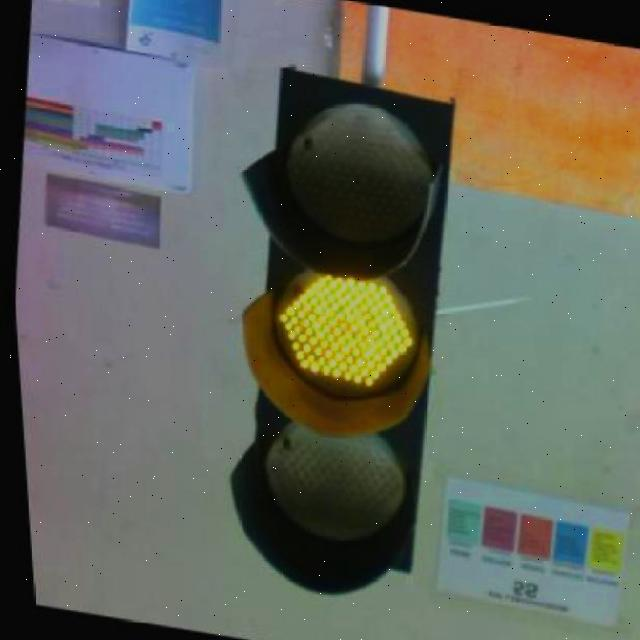Lampu Kuning: (190, 64, 483, 611)
